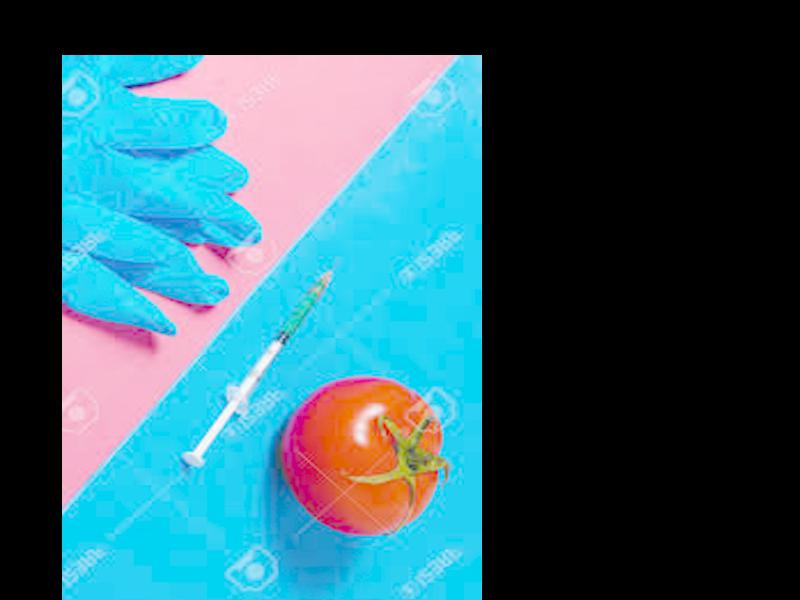Tomato: (279, 376, 440, 533)
